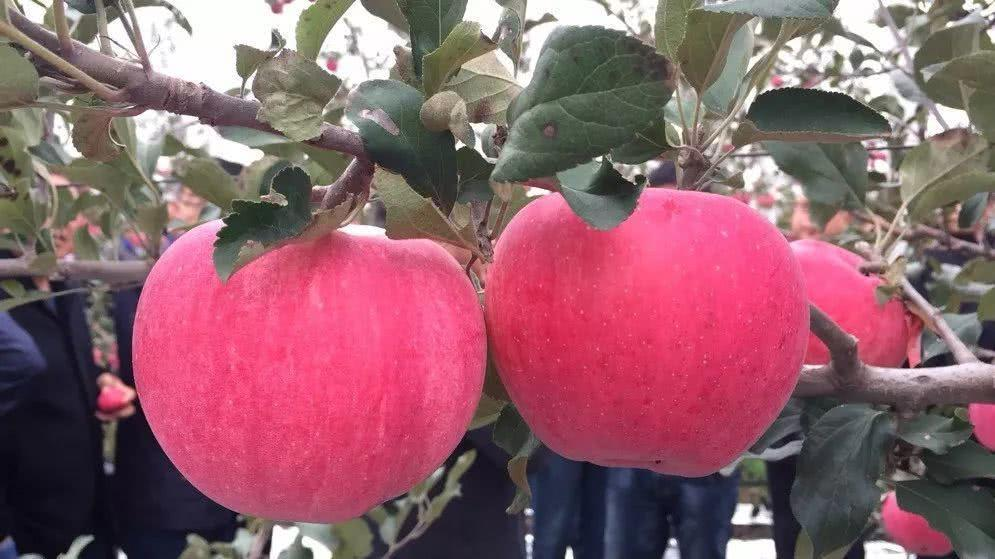apple: (130, 204, 487, 524), (483, 179, 810, 480), (787, 234, 911, 369)
